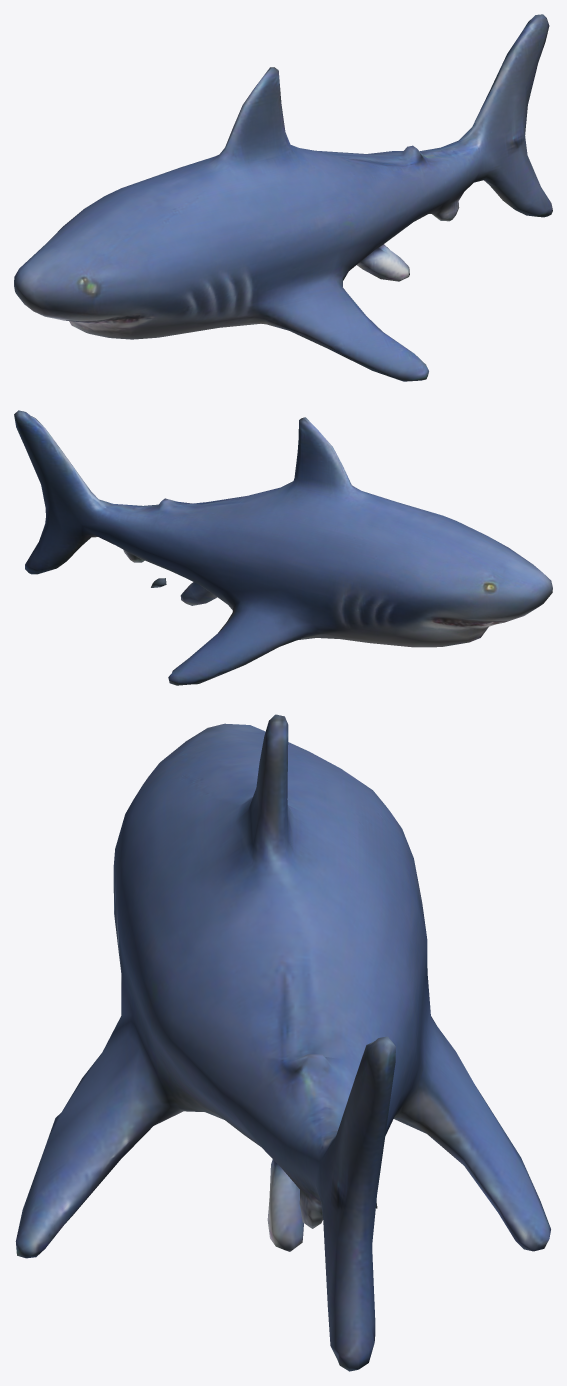
The model's file is shark.glb.
The picture shows the model from 3 angles, top to bottom: view 1: azimuth 30°, elevation 25°; view 2: azimuth 150°, elevation 25°; view 3: azimuth 270°, elevation 25°; orthographic projection. The views are drawn at different scales.
Parts seen in each view (by area): view 1: world; view 2: world; view 3: world.
Boxes of the visible parts, box(x1,y1,x2,y2) form: world: box(14, 14, 552, 381); world: box(14, 410, 552, 685); world: box(15, 714, 550, 1371).
Size of the model in its own units: 1.74 by 0.8034 by 0.8128.
1 material, 1 textured.
